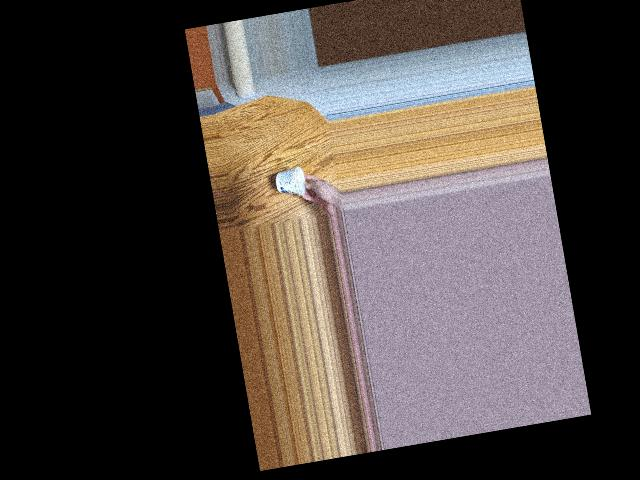cotage: (275, 166, 309, 200)
